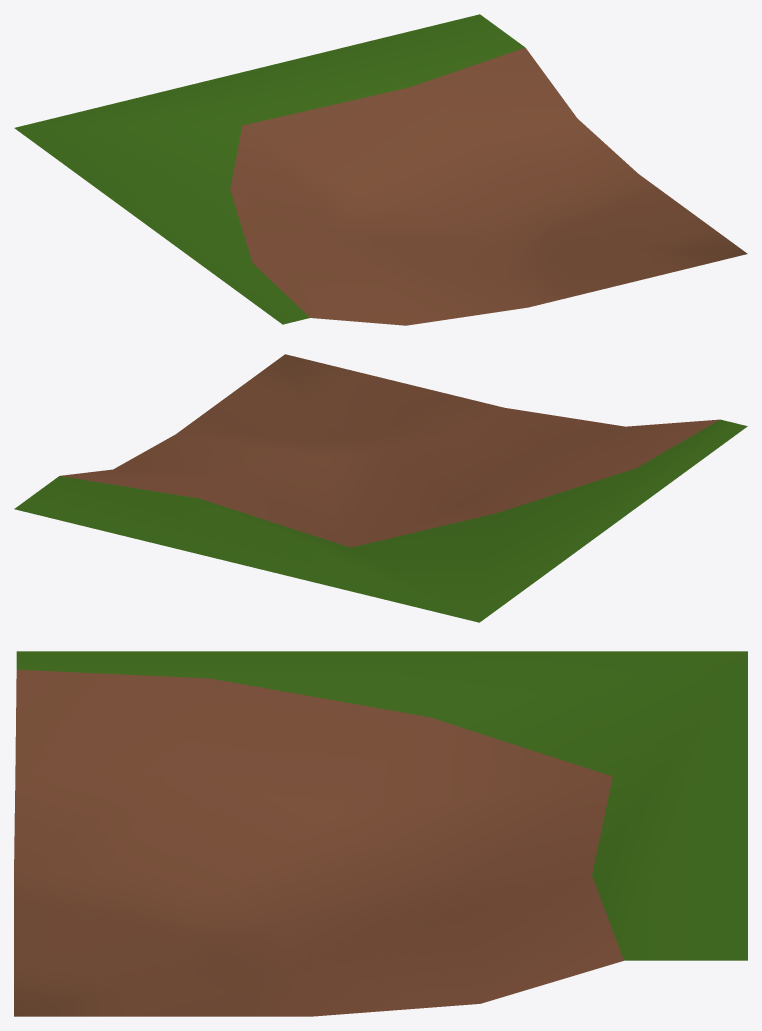
File: GroundHole1_3.fbx
3 renders of one model, top to bottom at view 1: azimuth 30°, elevation 25°; view 2: azimuth 150°, elevation 25°; view 3: azimuth 270°, elevation 25°, orthographic. The views are drawn at different scales.
Parts seen in each view (by area): view 1: GroundHole1_3; view 2: GroundHole1_3; view 3: GroundHole1_3.
Boxes of the visible parts, x1,y1,x2,y2 form: GroundHole1_3: (14, 14, 747, 325); GroundHole1_3: (14, 354, 747, 622); GroundHole1_3: (14, 651, 747, 1016).
Bounding box in the file's own units: 400 × 43.7 × 401.
